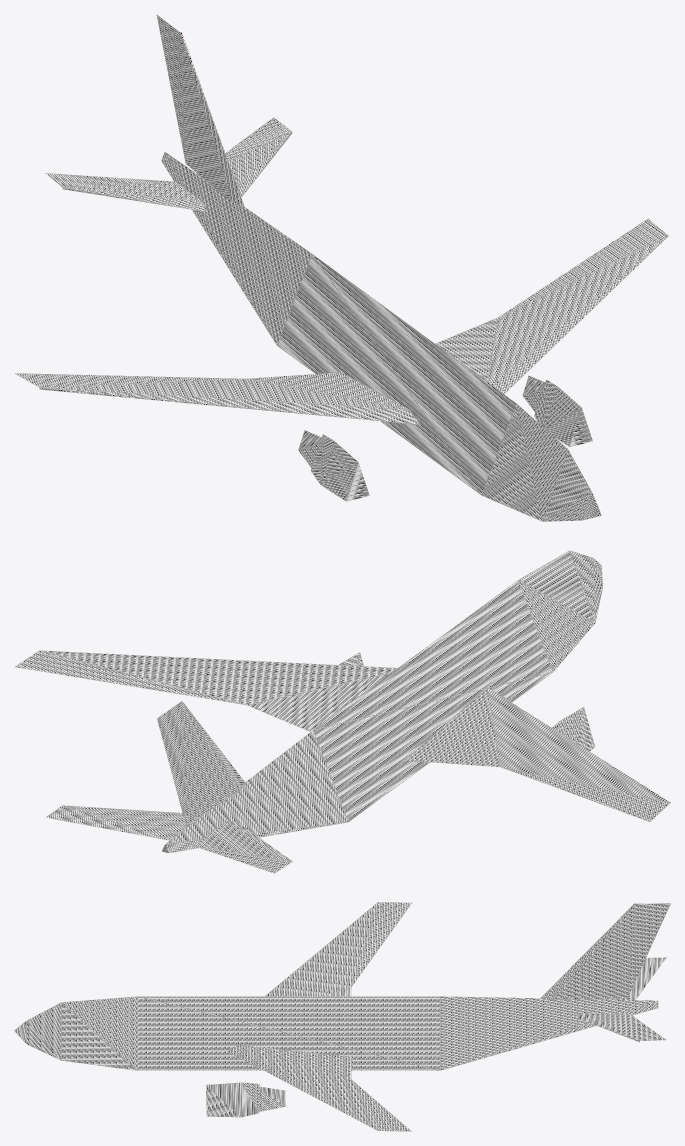
Rendered from TFS_Airbus_A300-600_GE_MSFS_LOD1.gltf.
3 renders of one model, top to bottom at view 1: azimuth 30°, elevation 25°; view 2: azimuth 150°, elevation 25°; view 3: azimuth 270°, elevation 25°, orthographic. The views are drawn at different scales.
Visible parts, largest first — view 1: node1; view 2: node1; view 3: node1.
Part boxes in pixels (x1,y1,x2,y2): node1: [15, 15, 668, 521]; node1: [14, 550, 670, 873]; node1: [14, 902, 670, 1131].
Size of the model in its own units: 44.76 by 15.36 by 54.24.
